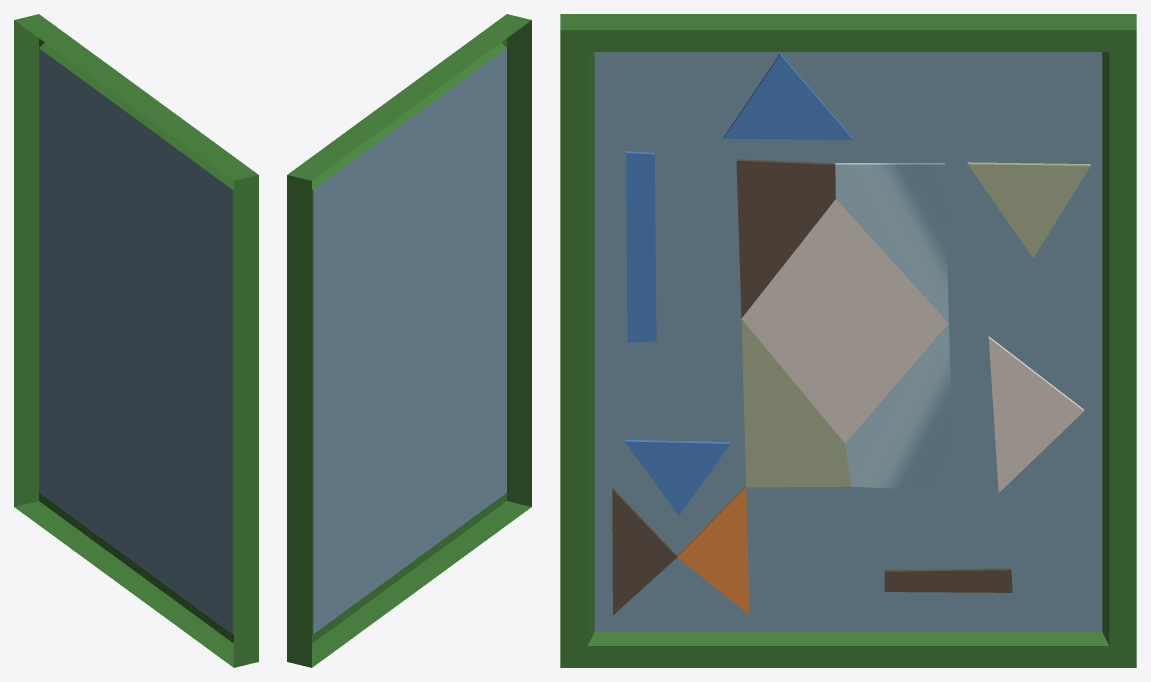
Rendered from Livingroom2_Picture.fbx.
3 renders of one model, left to right at view 1: azimuth 30°, elevation 25°; view 2: azimuth 150°, elevation 25°; view 3: azimuth 270°, elevation 25°, orthographic. The views are drawn at different scales.
Parts seen in each view (by area): view 1: Livingroom2_Picture; view 2: Livingroom2_Picture; view 3: Livingroom2_Picture.
Part boxes in pixels (x1,y1,x2,y2): Livingroom2_Picture: (14, 14, 258, 667); Livingroom2_Picture: (287, 14, 531, 667); Livingroom2_Picture: (560, 14, 1136, 667).
Size of the model in its own units: 6.9 by 129 by 106.
